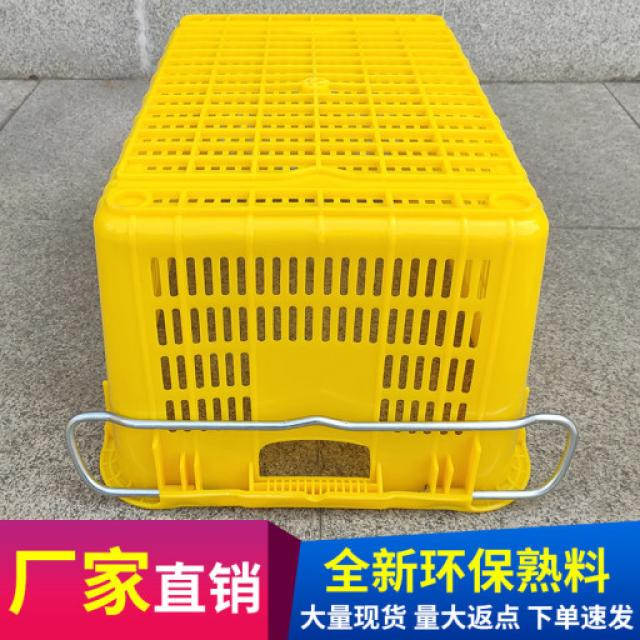basket: (94, 14, 551, 425), (100, 426, 530, 512)
